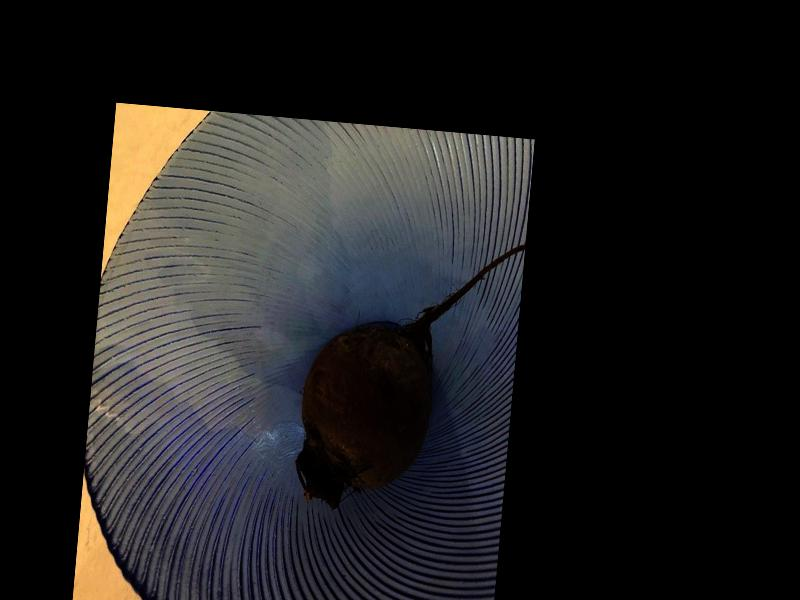Beet: (293, 227, 525, 522)
